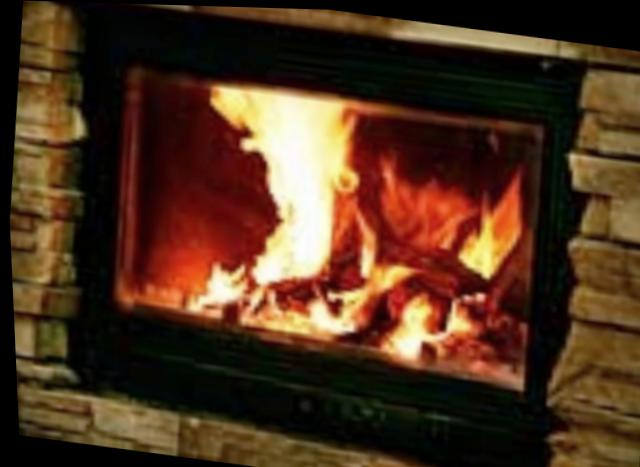fire: (241, 89, 352, 165), (375, 164, 464, 249), (249, 215, 329, 285), (459, 189, 520, 276), (263, 158, 340, 223), (380, 288, 428, 357), (308, 281, 359, 335), (193, 264, 244, 305), (205, 82, 249, 126), (440, 293, 474, 333), (353, 225, 376, 278), (371, 258, 408, 288)
